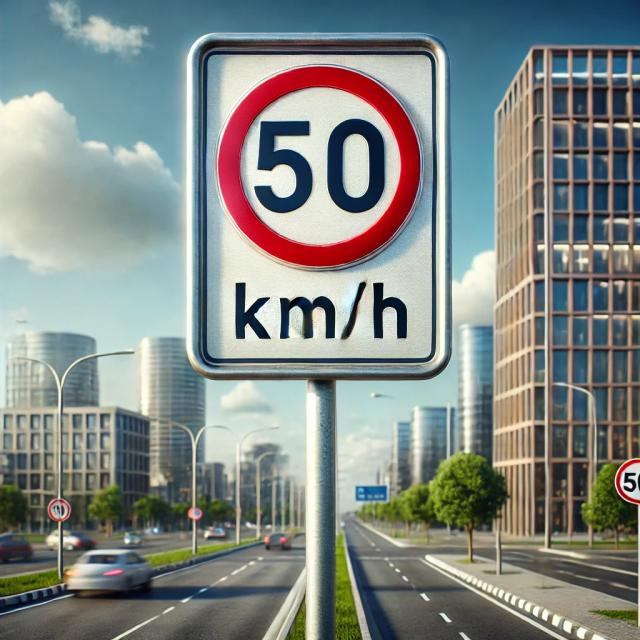Speed limit 50: (215, 62, 425, 272)
